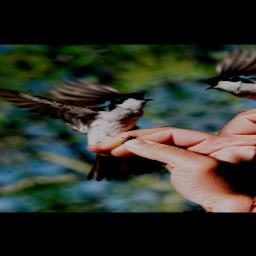Swallow: (0, 50, 216, 190)
